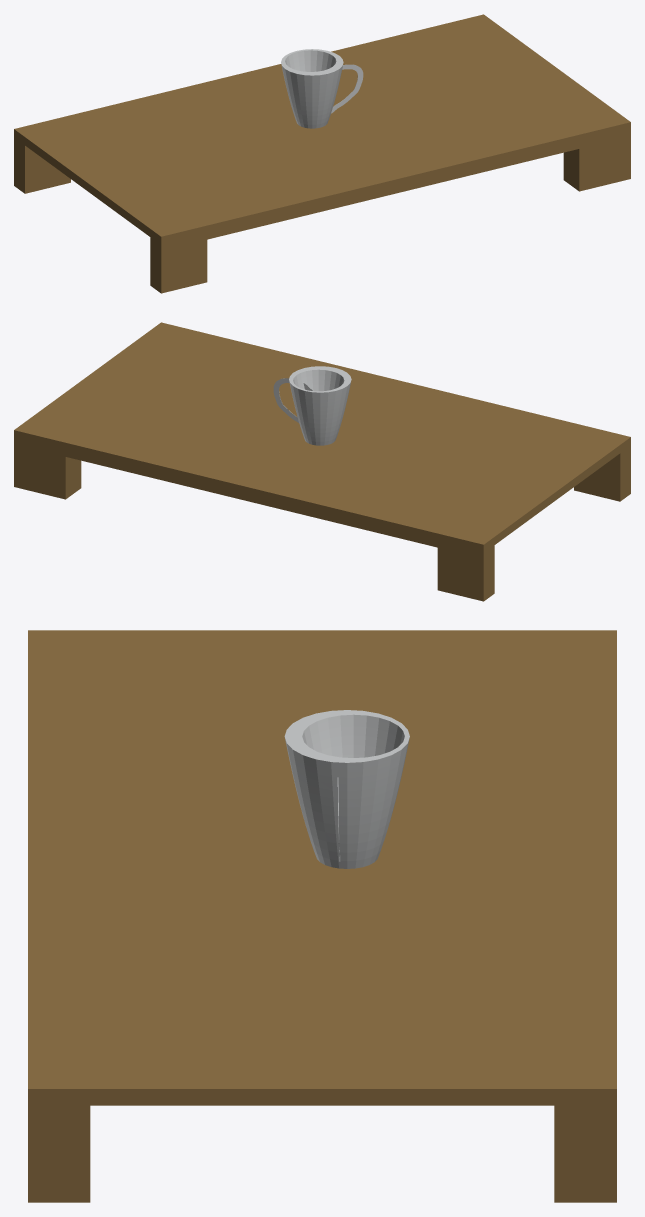
Rendered from center-table.glb.
The picture shows the model from 3 angles, top to bottom: view 1: azimuth 30°, elevation 25°; view 2: azimuth 150°, elevation 25°; view 3: azimuth 270°, elevation 25°; orthographic projection. The views are drawn at different scales.
Parts seen in each view (by area): view 1: Mesh_Mesh_head_geo.001_lambert2SG.001; view 2: Mesh_Mesh_head_geo.001_lambert2SG.001; view 3: Mesh_Mesh_head_geo.001_lambert2SG.001.
Part boxes in pixels (x1,y1,x2,y2): Mesh_Mesh_head_geo.001_lambert2SG.001: [14, 14, 630, 293]; Mesh_Mesh_head_geo.001_lambert2SG.001: [14, 322, 630, 601]; Mesh_Mesh_head_geo.001_lambert2SG.001: [28, 630, 616, 1202].
Bounding box in the file's own units: 173 × 41 × 93.92.
